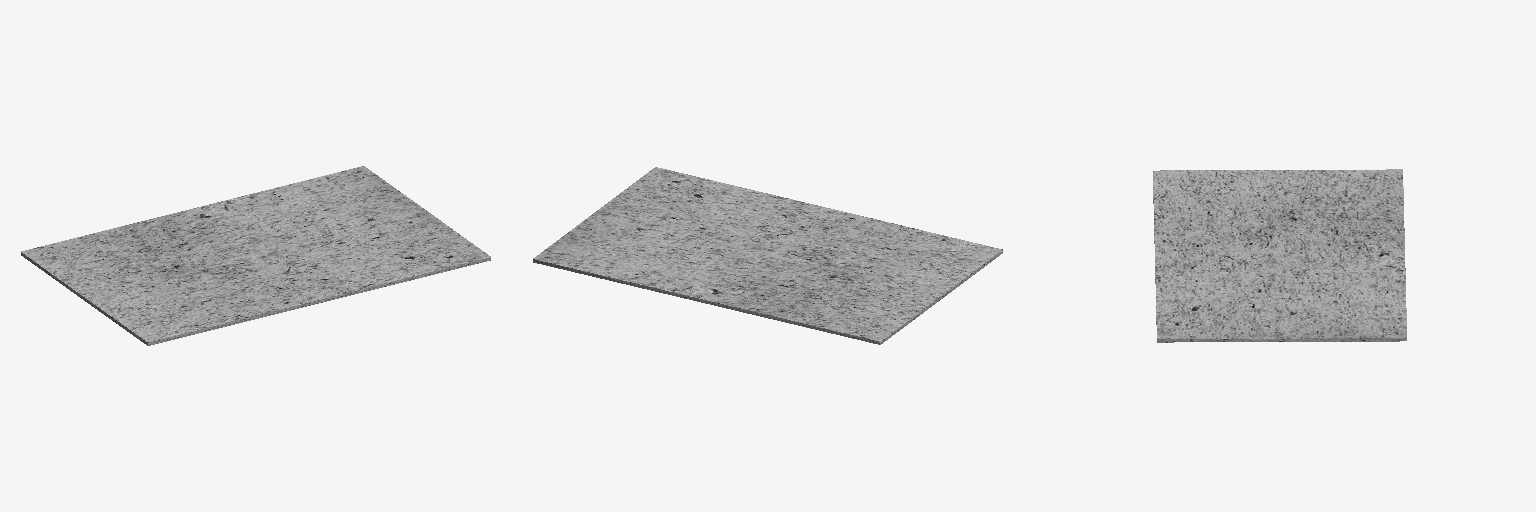
The picture shows the model from 3 angles: view 1: azimuth 30°, elevation 25°; view 2: azimuth 150°, elevation 25°; view 3: azimuth 270°, elevation 25°; orthographic projection.
Parts seen in each view (by area): view 1: LOSA; view 2: LOSA; view 3: LOSA.
Boxes of the visible parts, <box> form: LOSA: <box>21,166,490,345</box>; LOSA: <box>533,167,1002,344</box>; LOSA: <box>1153,169,1406,342</box>.
Bounding box in the file's own units: 9.03 × 0.0849 × 5.72.
1 materials, 1 textured.